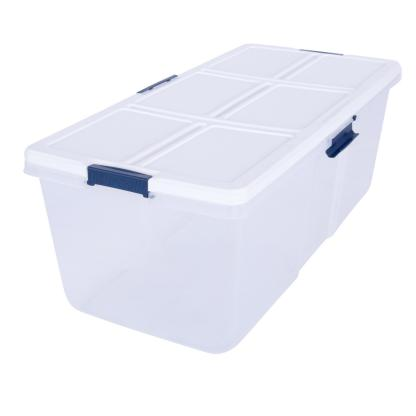plastic_box: (11, 35, 415, 361)
